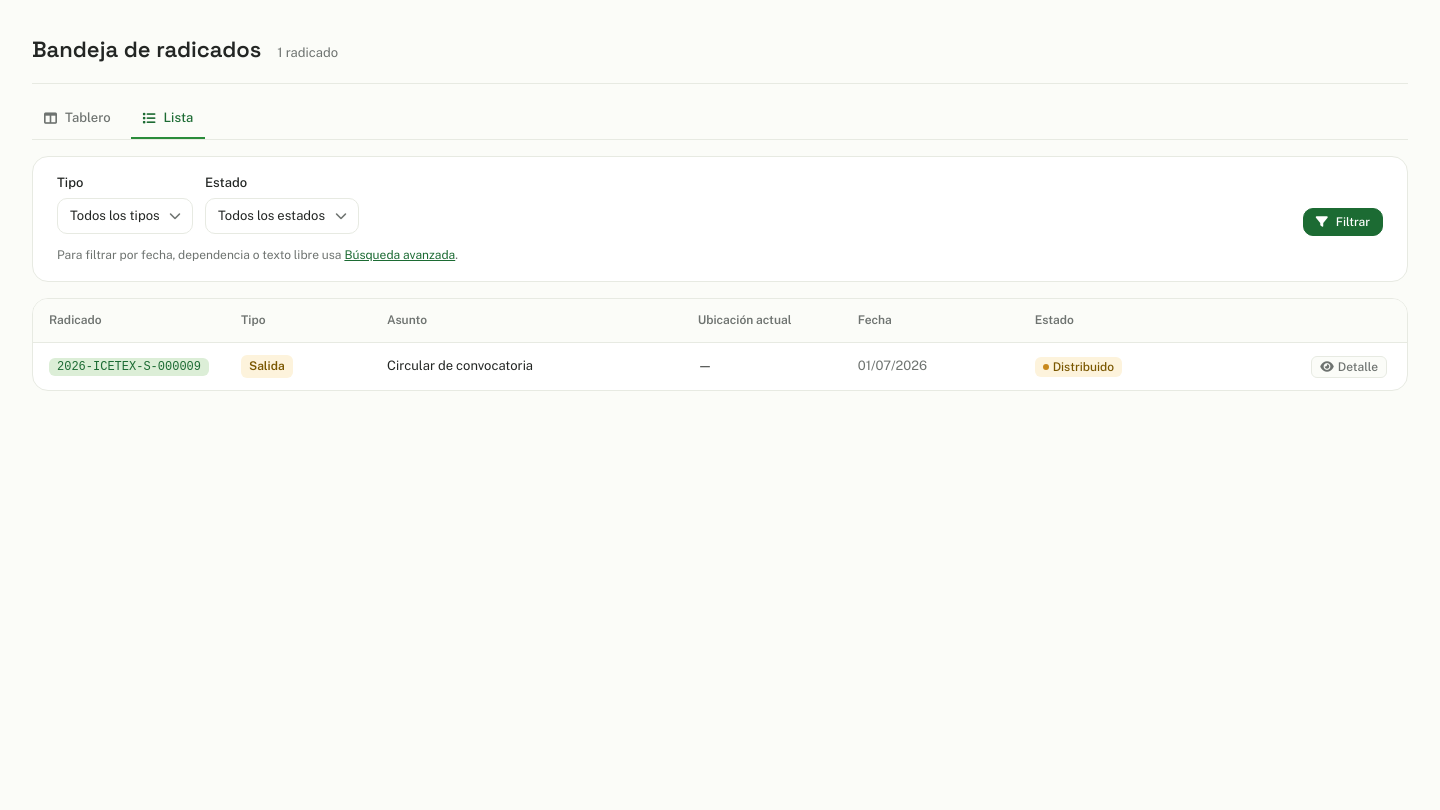
Test: /bandeja — el detalle enseña los actores congelados del radicado › remitente y destinatario van en secciones distintas: son dos preguntas
The width and height of the screenshot is (1440, 810).
Expected: the text "2026-ICETEX-S-000009" is shown, [49,358,209,376]
Click the button "Detalle": (1349, 367) [1311,356,1387,378]
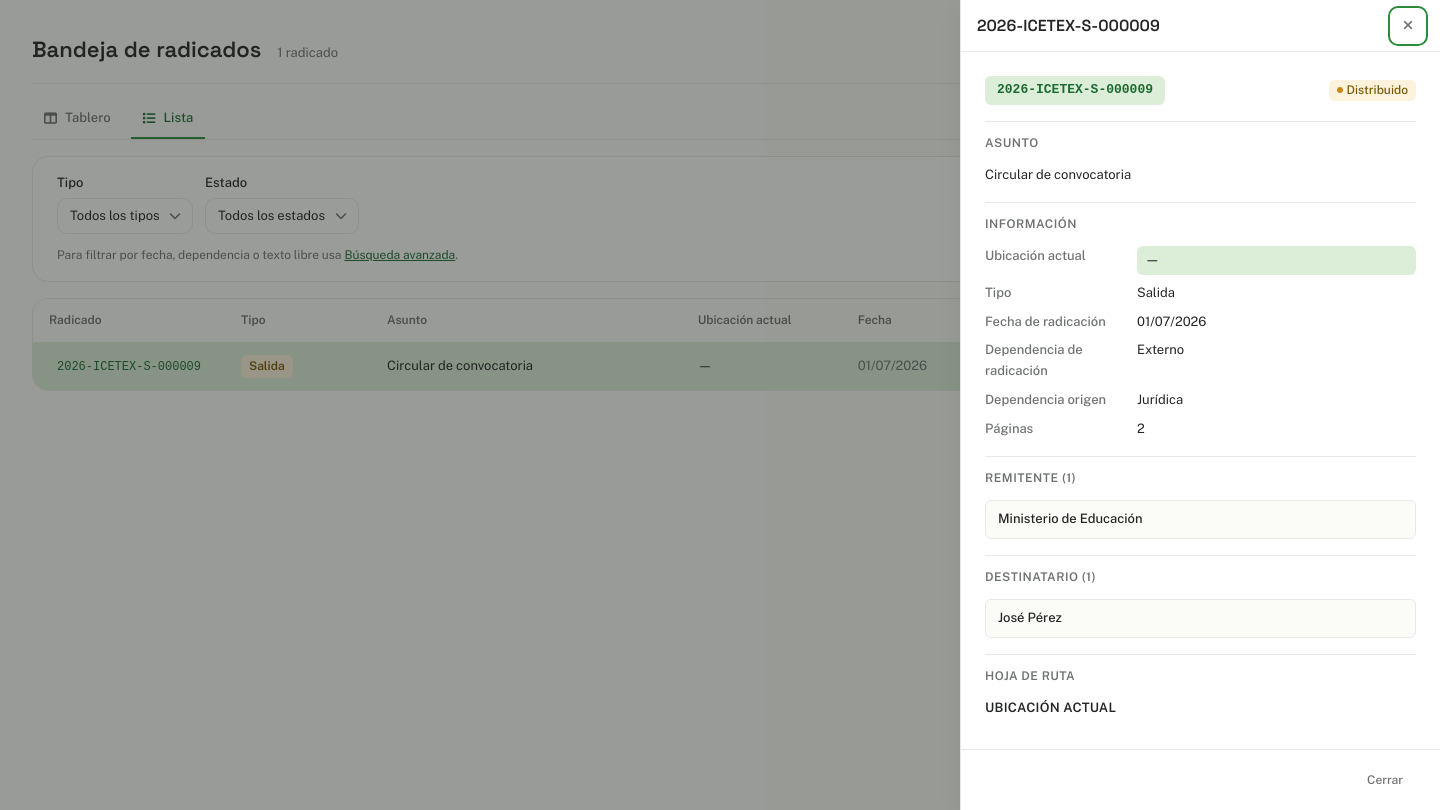
Now the heading "Remitente (1)" is shown, box [985,470,1076,484]
Now the heading "Destinatario (1)" is shown, box [985,570,1096,584]
